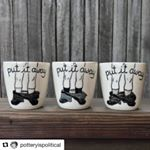cups: (98, 59, 148, 113), (1, 59, 51, 113), (50, 58, 99, 112)
